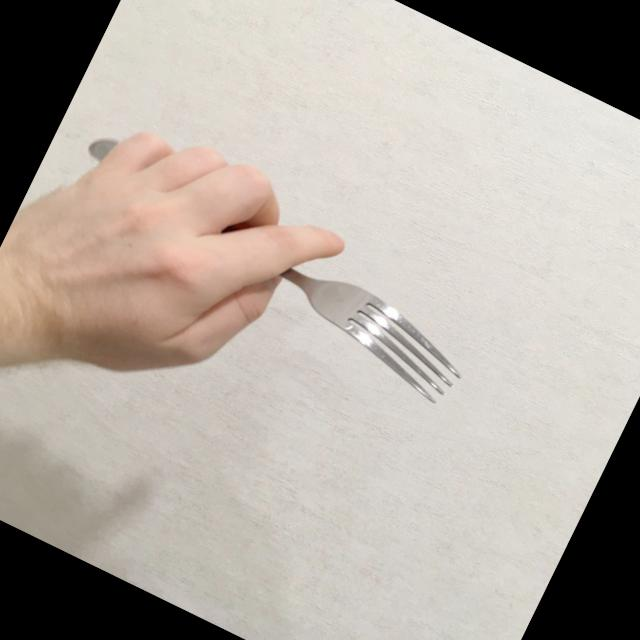fork: (52, 131, 486, 411)
